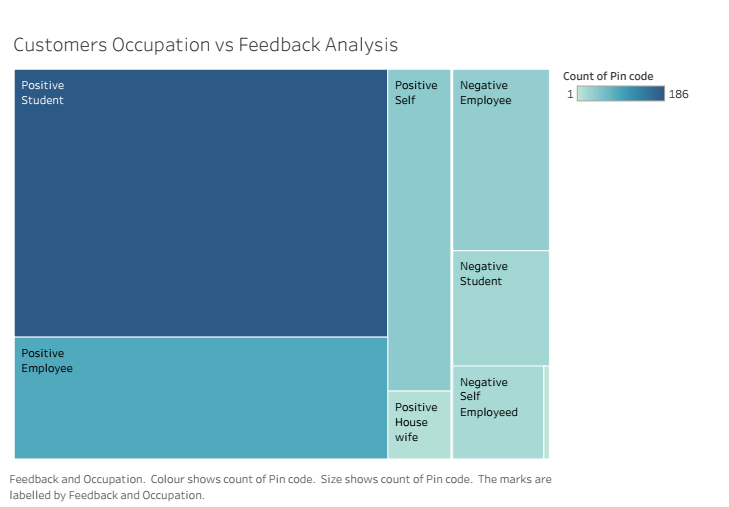

What the dashboard file says about the page in this screenshot:
{"tool":"tableau","page":{"name":"Dashboard 1","canvas":[650,860],"ordinal":0},"visuals":[{"type":"dashboard-object","box":[144,594.3,164,79.9]}]}

Visuals, with their boxes on the page's 650x860 design canvas (x1, y1, x2, y2). These are canvas units, not pixel positions in the 729x507 screenshot, which may show the page scaled, cropped or inside an application window:
dashboard-object: (144,594,308,674)
